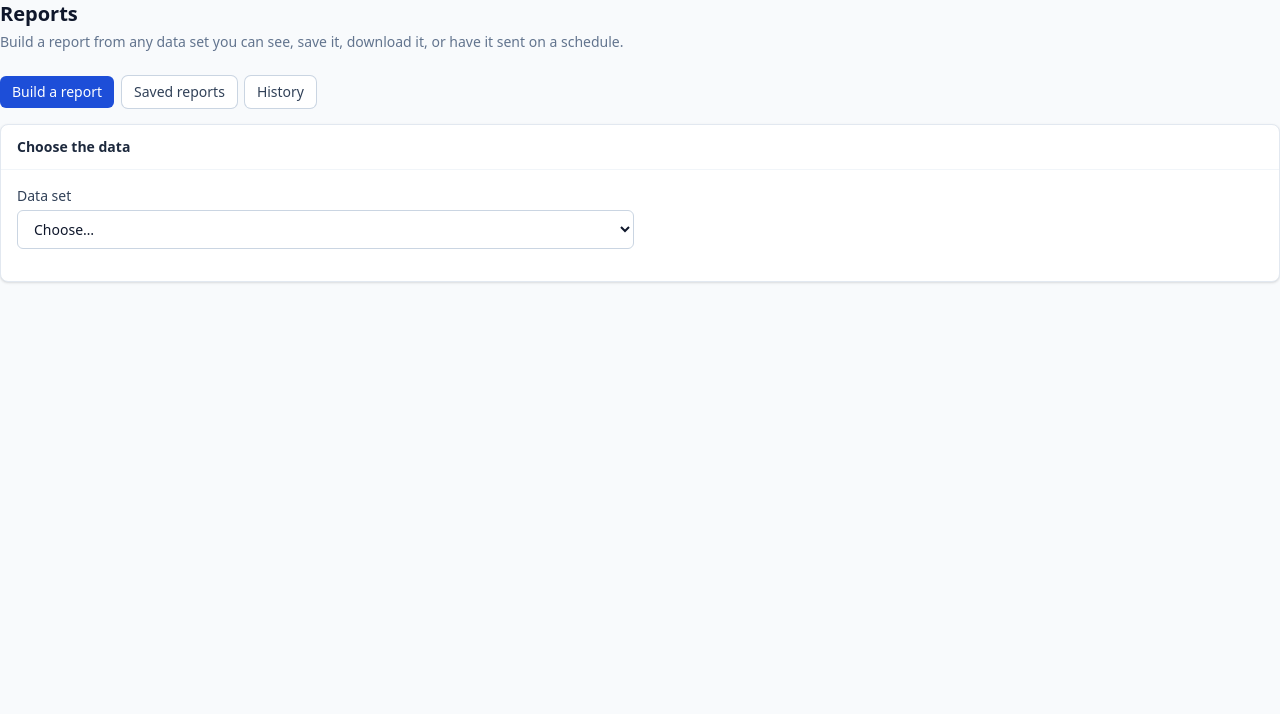
Scenario: Build a report › shows the server's refusal
Select "Sales backlog" in the dropdown labelled "Data set" at (326, 230), box [17,210,634,249]
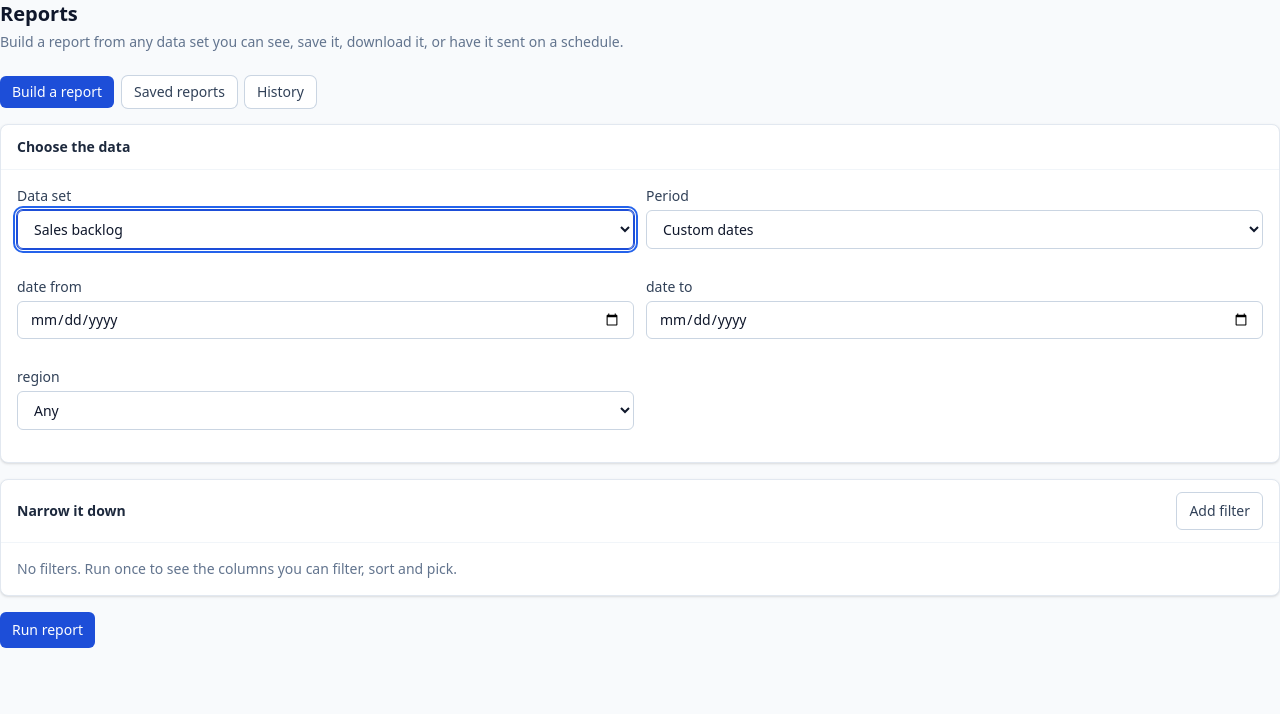
Click the button "Run report" at (48, 630), box [0,612,95,648]
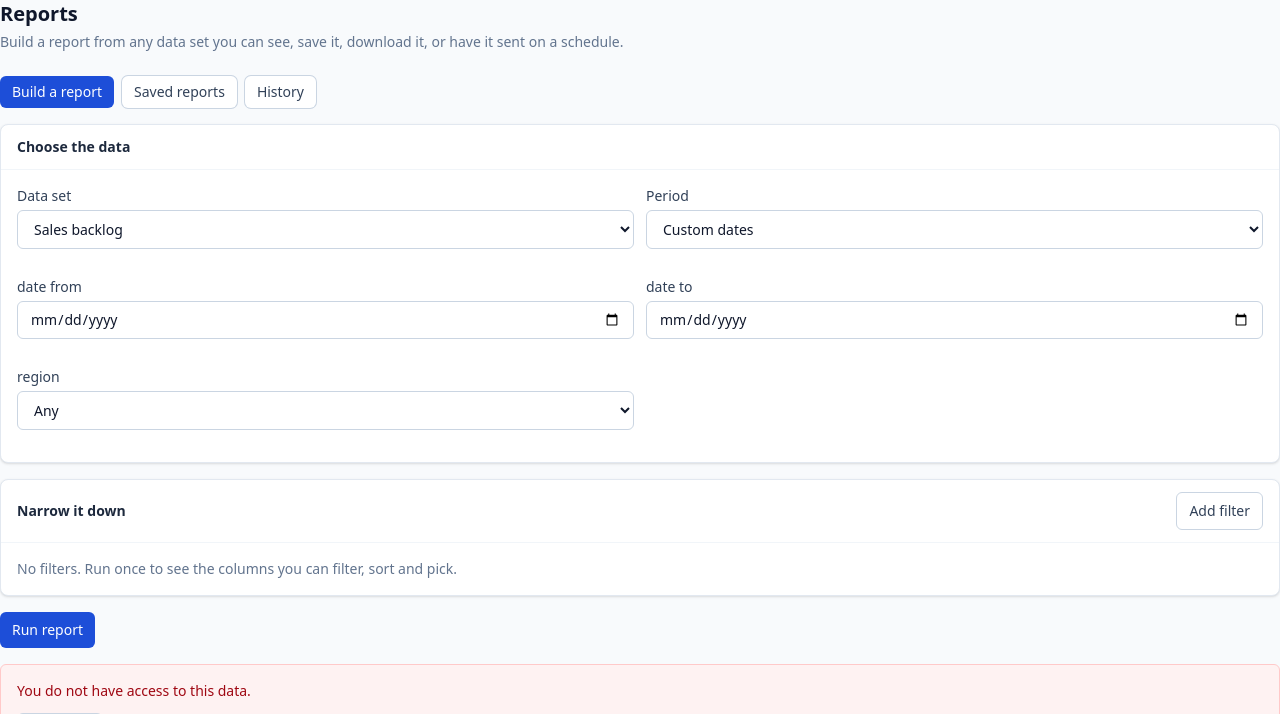
Check: the text "You do not have access to this data." is shown, box [17,681,251,700]
